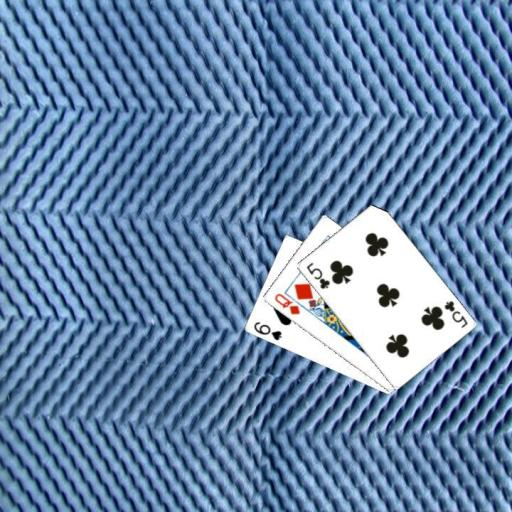5C: (303, 259, 331, 291), (441, 297, 469, 329)
6S: (250, 319, 283, 342)
QD: (271, 290, 301, 317)
